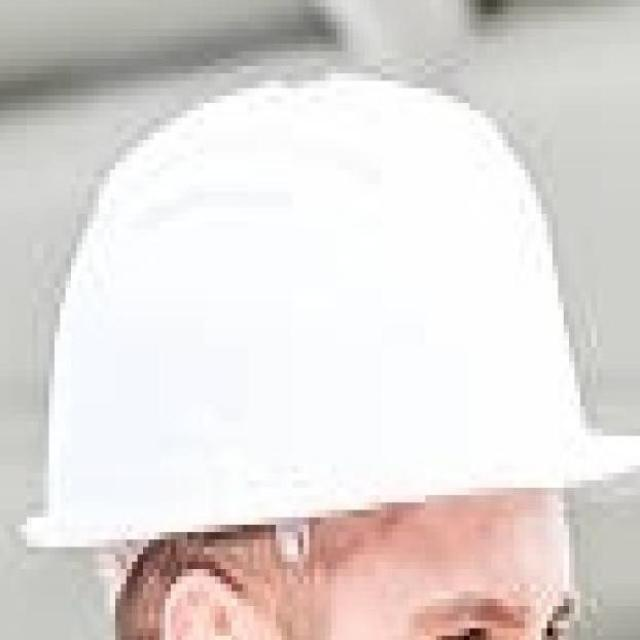white helmet: (18, 69, 640, 572)
